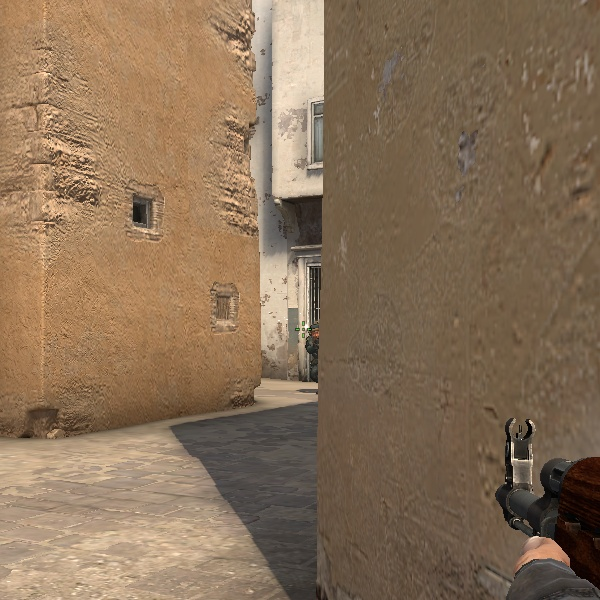t_body: (298, 324, 323, 383)
